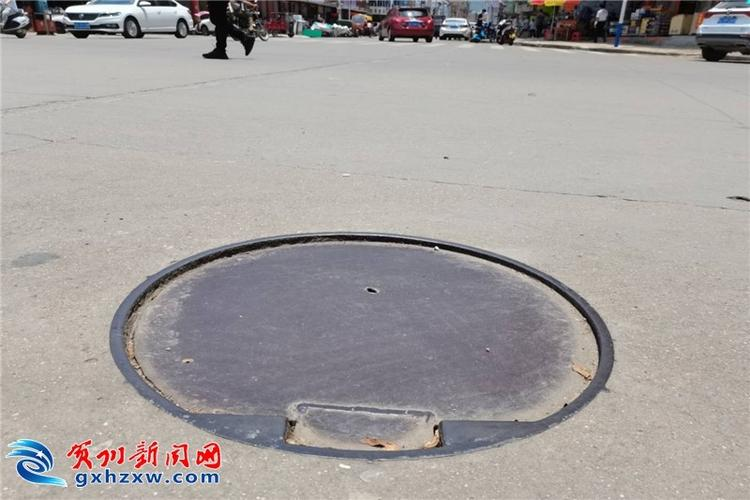good: (99, 215, 637, 467)
